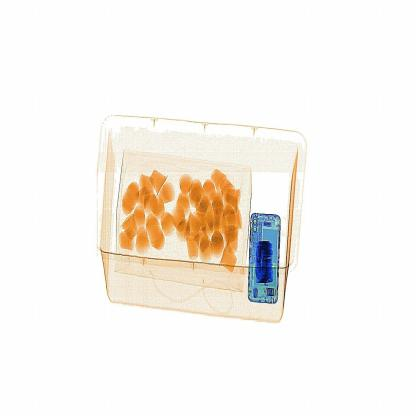scissors: (248, 234, 276, 284)
